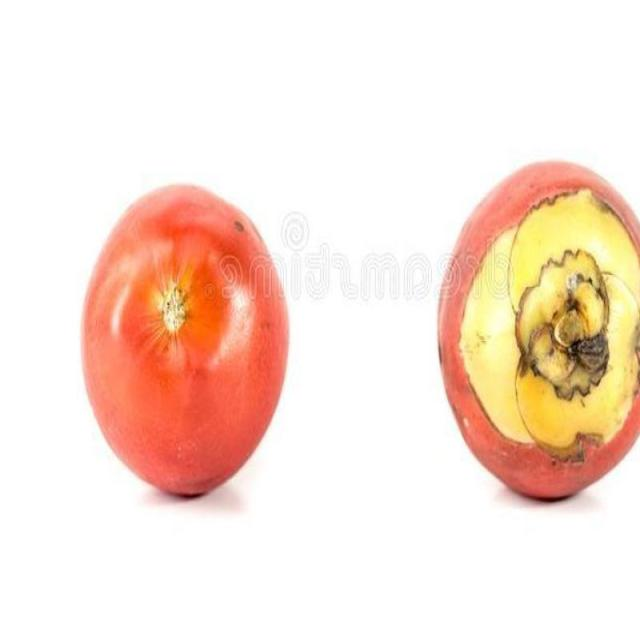good: (437, 163, 639, 504), (79, 184, 293, 501)
